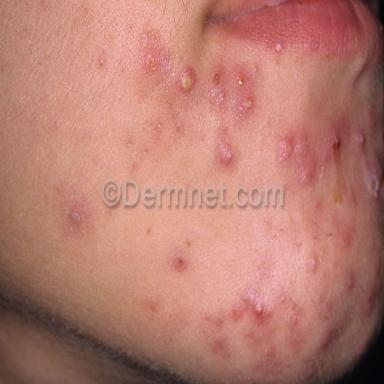acne: (277, 132, 316, 182), (140, 32, 171, 75), (232, 289, 270, 323), (65, 194, 91, 233), (207, 67, 227, 107), (290, 308, 306, 353), (216, 135, 234, 167), (178, 65, 197, 94), (329, 128, 341, 162), (233, 66, 251, 87), (211, 337, 229, 358), (171, 253, 188, 272), (267, 343, 281, 361), (319, 292, 333, 310), (238, 97, 253, 113), (321, 329, 336, 345), (343, 273, 355, 290), (308, 254, 319, 271), (367, 289, 375, 310), (355, 133, 365, 149), (343, 232, 352, 247), (275, 42, 282, 51), (100, 56, 104, 66)
